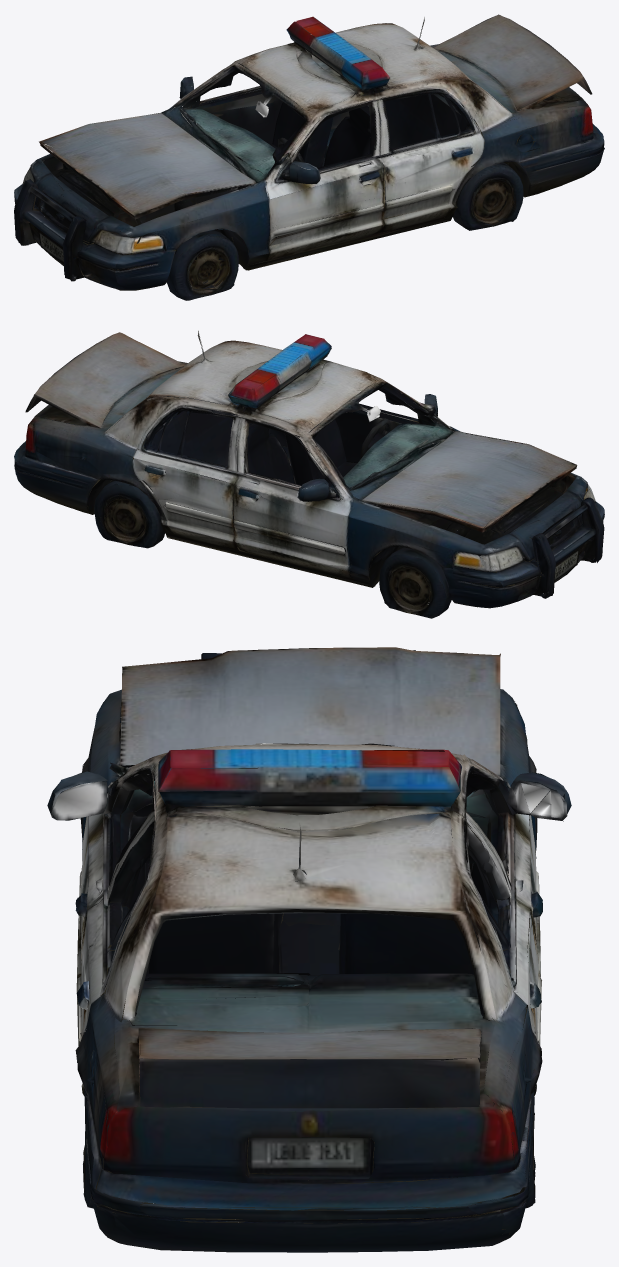
Rendered from police-wreck.glb.
3 views of the same model, one above another, from view 1: azimuth 30°, elevation 25°; view 2: azimuth 150°, elevation 25°; view 3: azimuth 270°, elevation 25° (orthographic). The views are drawn at different scales.
Visible parts, largest first — view 1: node_0; view 2: node_0; view 3: node_0.
Boxes of the visible parts, left/top/right/bottom form: node_0: left=14, top=14, right=604, bottom=300; node_0: left=14, top=330, right=604, bottom=618; node_0: left=47, top=647, right=571, bottom=1252.
Size of the model in its own units: 4.88 by 1.58 by 2.1.
Materials: 1 (1 with a texture image).
